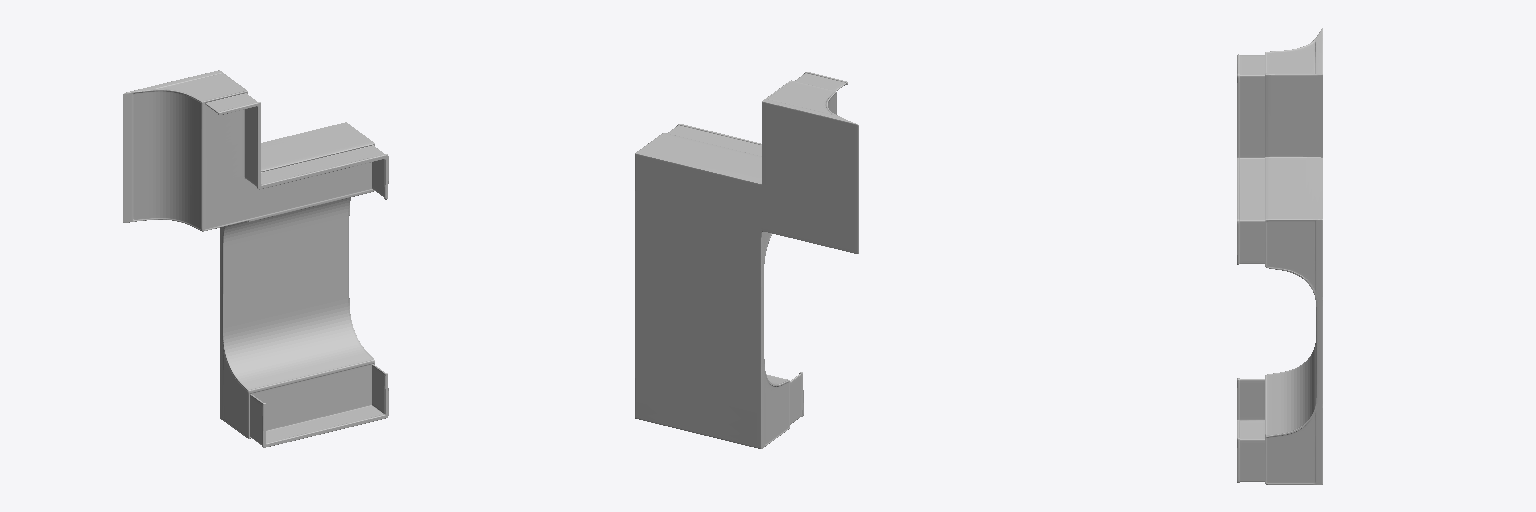
File: ramp.obj
3 renders of one model, left to right at view 1: azimuth 30°, elevation 25°; view 2: azimuth 150°, elevation 25°; view 3: azimuth 270°, elevation 25°, orthographic.
Visible parts, largest first — view 1: 16301_SkatePark_pipes04; view 2: 16301_SkatePark_pipes04; view 3: 16301_SkatePark_pipes04.
Boxes of the visible parts, <box> form: 16301_SkatePark_pipes04: <box>123,70,388,447</box>; 16301_SkatePark_pipes04: <box>635,72,858,448</box>; 16301_SkatePark_pipes04: <box>1237,28,1322,484</box>.
Size of the model in its own units: 607 by 903 by 202.